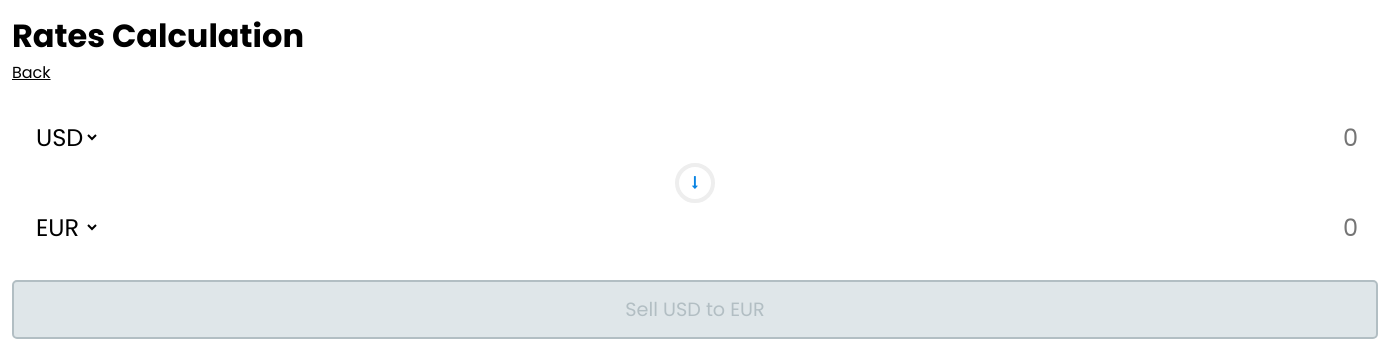
Test case: ExchangeScreen › currencySelectors › Swap selector values if they are the same when change
The width and height of the screenshot is (1390, 356).
Expected: the 2nd dropdown with class "currency-selector" shows "EUR", left=32, top=210, right=100, bottom=245
Select "EUR" in the 1st dropdown with class "currency-selector" at coordinates (66, 138), box left=32, top=120, right=100, bottom=155
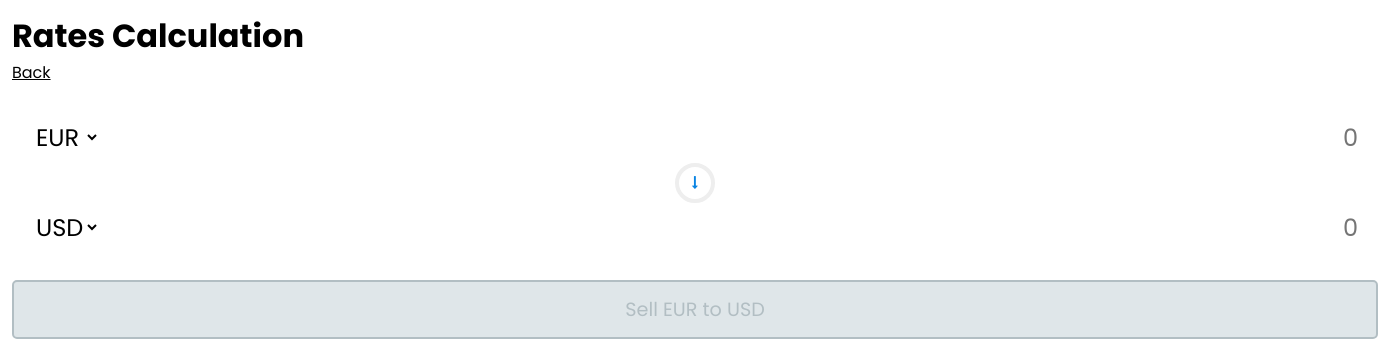
Now the 2nd dropdown with class "currency-selector" shows "USD", box left=32, top=210, right=100, bottom=245
